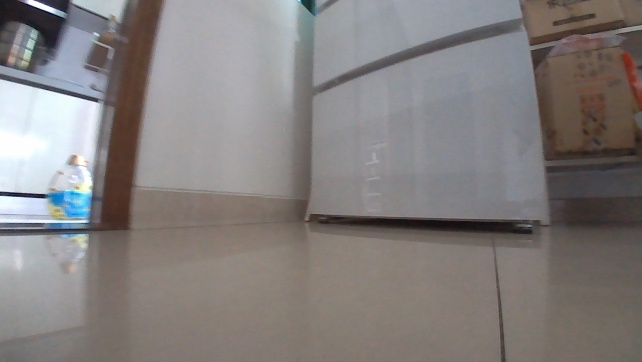cupboard1: (0, 63, 106, 219)
refrigerator1: (302, 0, 552, 236)
